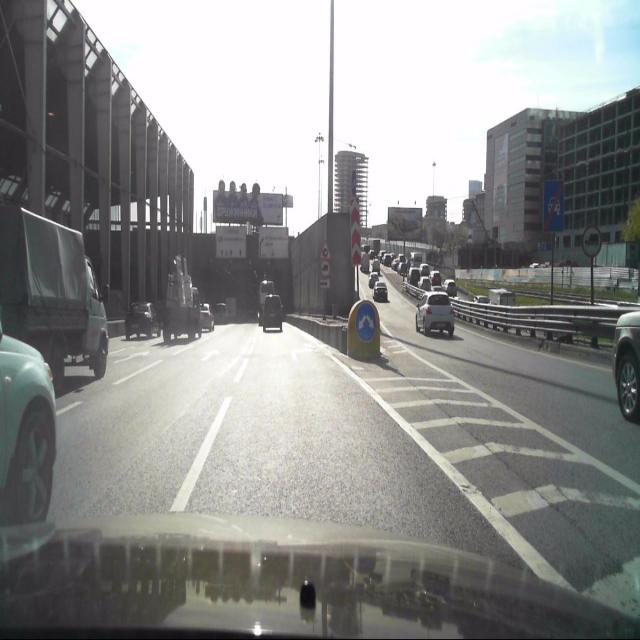road sign: (542, 180, 564, 232)
